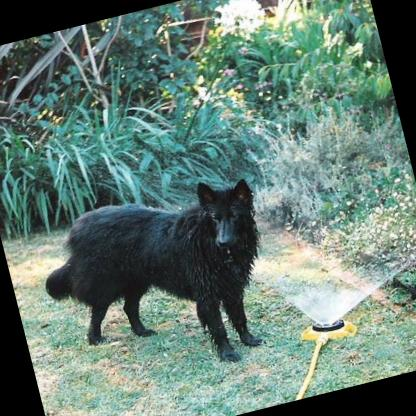groenendael: (27, 168, 290, 402)
